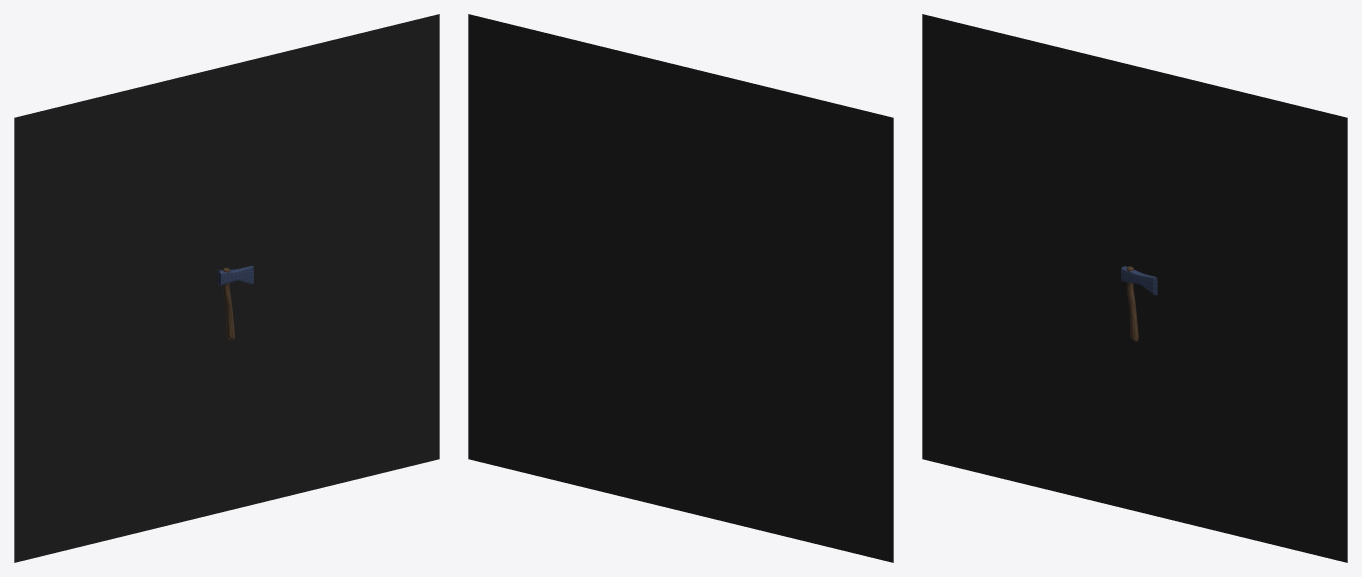
Rendered from Cartoon_axe.obj.
The picture shows the model from 3 angles, left to right: view 1: azimuth 30°, elevation 25°; view 2: azimuth 150°, elevation 25°; view 3: azimuth 330°, elevation 25°; orthographic projection.
Parts seen in each view (by area): view 1: Plane, Cube; view 2: Plane; view 3: Plane, Cube.
Part boxes in pixels (x1,y1,x2,y2): Plane: (14,14,439,562); Cube: (217,266,253,285); Plane: (468,14,893,562); Plane: (922,14,1347,562); Cube: (1121,266,1157,295).
Size of the model in its own units: 70.37 by 70.37 by 1.2.
Materials: 3 (2 with a texture image).
